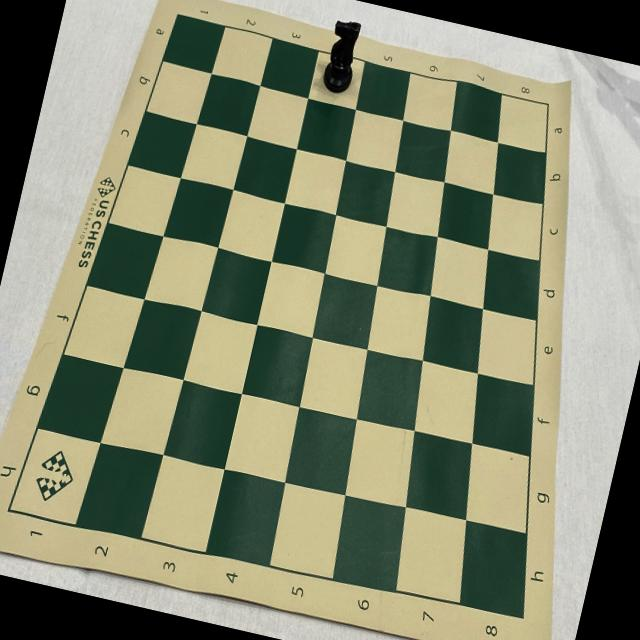black-knight: (316, 14, 367, 99)
